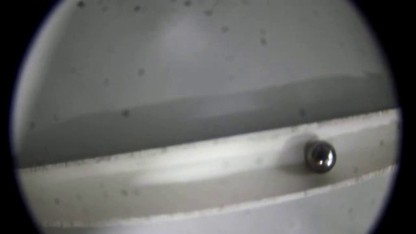gangzhu: (305, 140, 338, 172)
